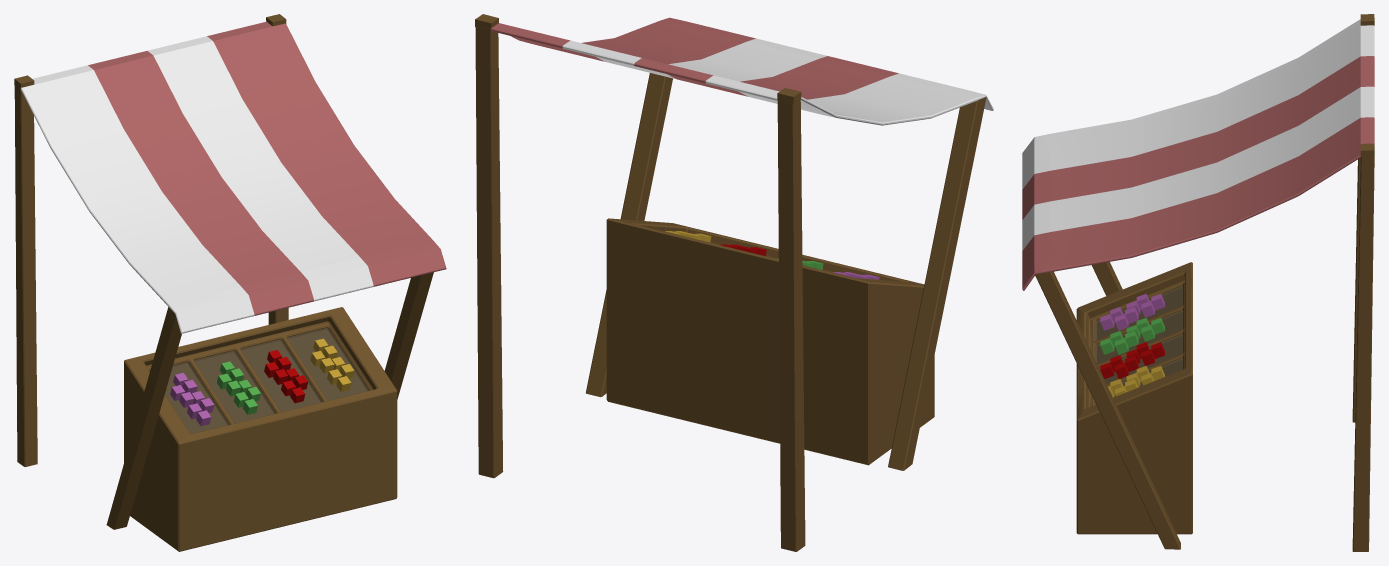
The model's file is Stand.fbx.
3 renders of one model, left to right at view 1: azimuth 30°, elevation 25°; view 2: azimuth 150°, elevation 25°; view 3: azimuth 270°, elevation 25°, orthographic. The views are drawn at different scales.
Parts seen in each view (by area): view 1: pCube38; view 2: pCube38; view 3: pCube38.
Boxes of the visible parts, <box> form: pCube38: <box>14,14,446,551</box>; pCube38: <box>475,14,993,551</box>; pCube38: <box>1022,14,1374,551</box>.
Bounding box in the file's own units: 76.82 × 105 × 83.9.
